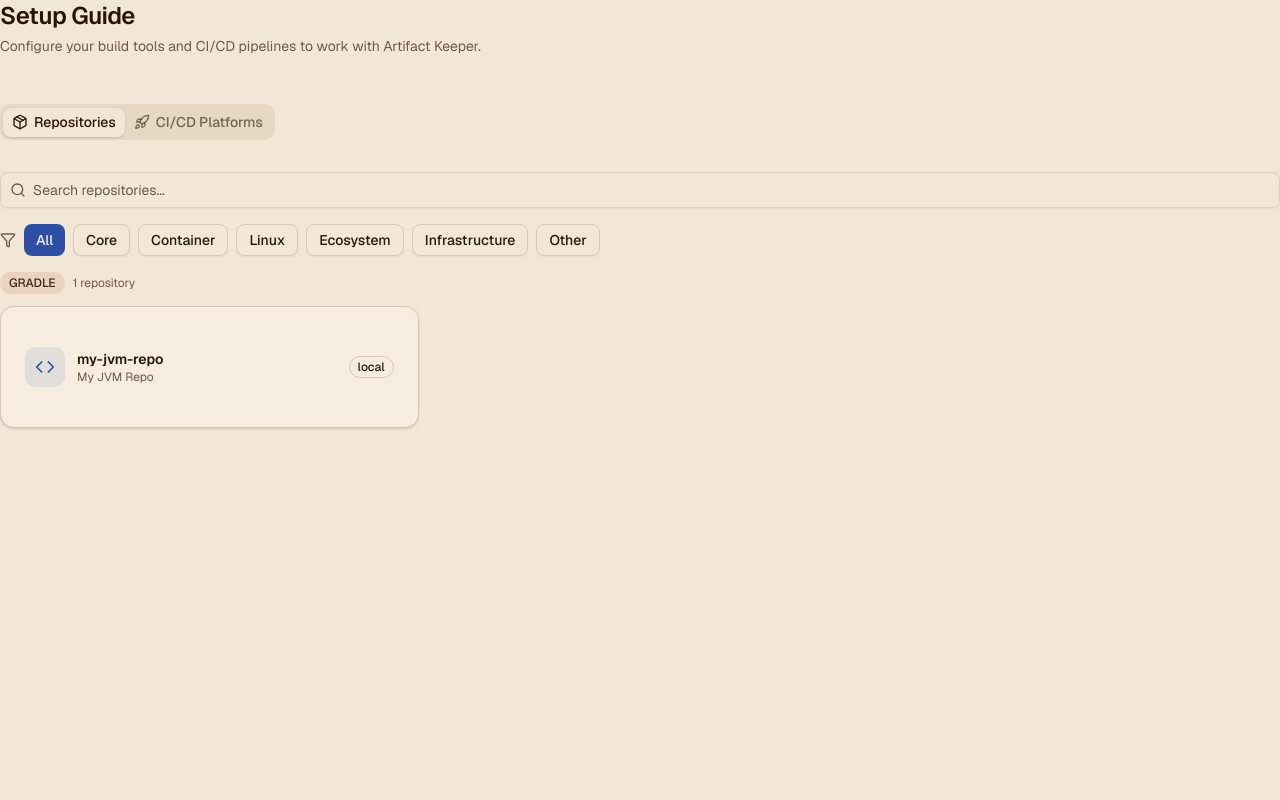
Test case: SetupPage - JVM client variants › opens on the Gradle (Groovy) tab for a gradle-format repo
expect the text "my-jvm-repo" is shown: met, box [77,350,163,368]
Click the text "my-jvm-repo". click: (209, 367)
box: [0,306,419,428]
(page scrolled)
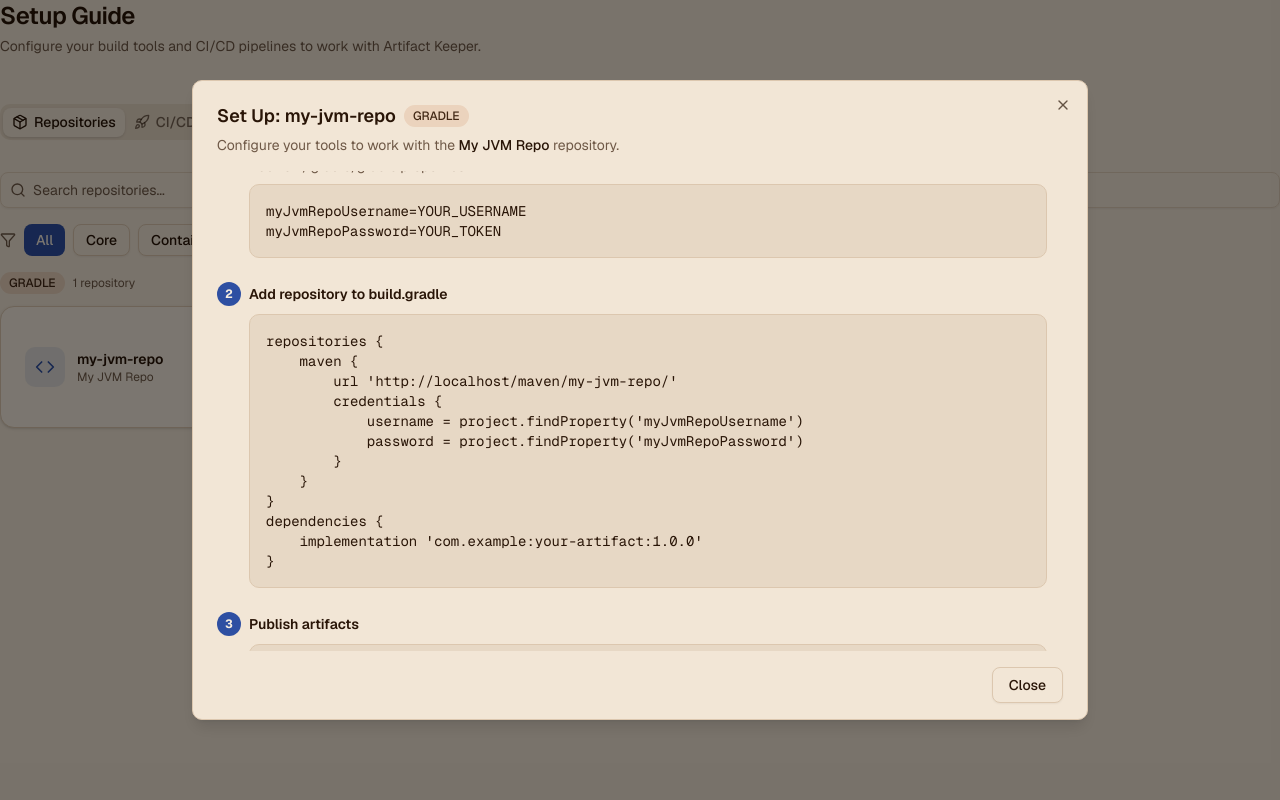
expect the dialog is shown: met, box [192,80,1088,720]
expect the panel named "Gradle (Groovy)" shows "repositories {": met, box [266,332,804,570]
expect the panel named "Gradle (Groovy)" shows "implementation '": met, box [266,332,804,570]
